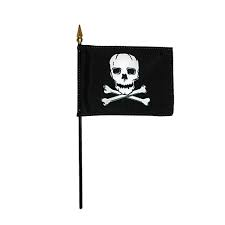Jolly Roger Flag: (74, 41, 180, 120)
